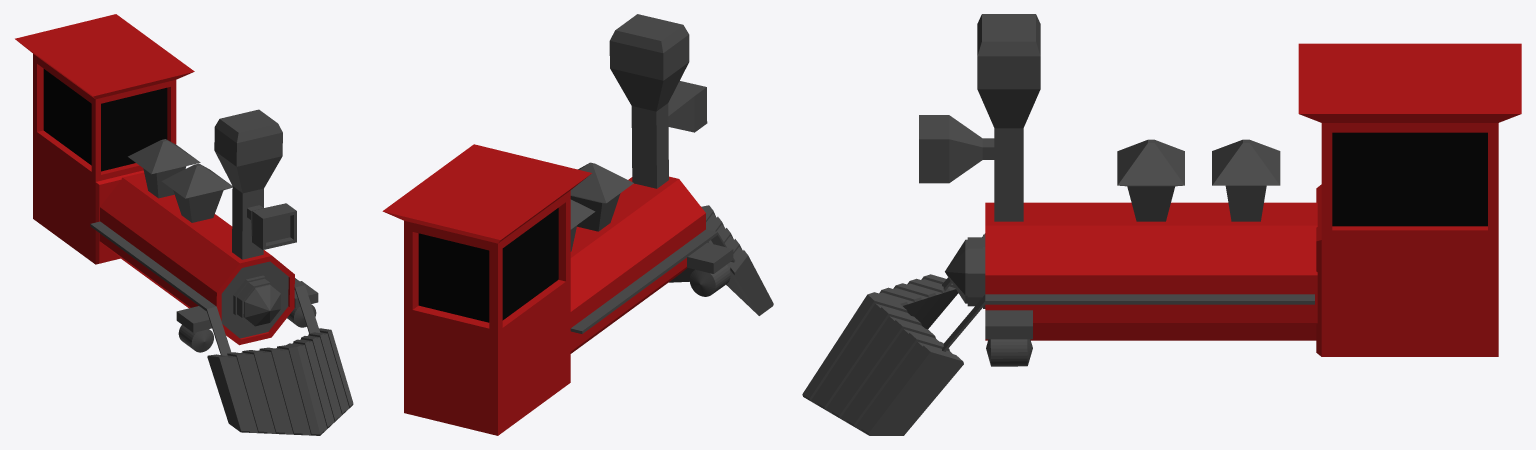
File: Train.fbx
3 views of the same model, side by side, from view 1: azimuth 30°, elevation 25°; view 2: azimuth 150°, elevation 25°; view 3: azimuth 270°, elevation 25° (orthographic). The views are drawn at different scales.
Visible parts, largest first — view 1: Trem; view 2: Trem; view 3: Trem.
Part boxes in pixels (x1,y1,x2,y2): Trem: (15,14,353,435); Trem: (382,14,773,435); Trem: (802,14,1521,435).
Bounding box in the file's own units: 196 × 393 × 691.
